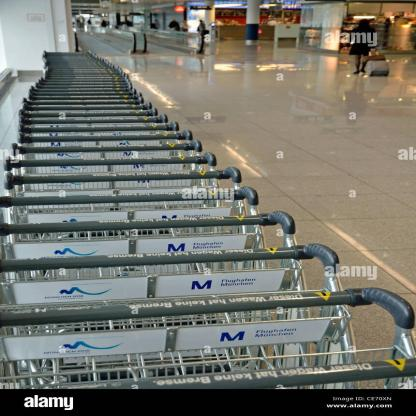airport-trolley: (0, 287, 416, 390), (0, 242, 343, 307), (0, 211, 304, 263), (0, 184, 265, 228), (0, 165, 247, 206), (0, 150, 215, 180)
